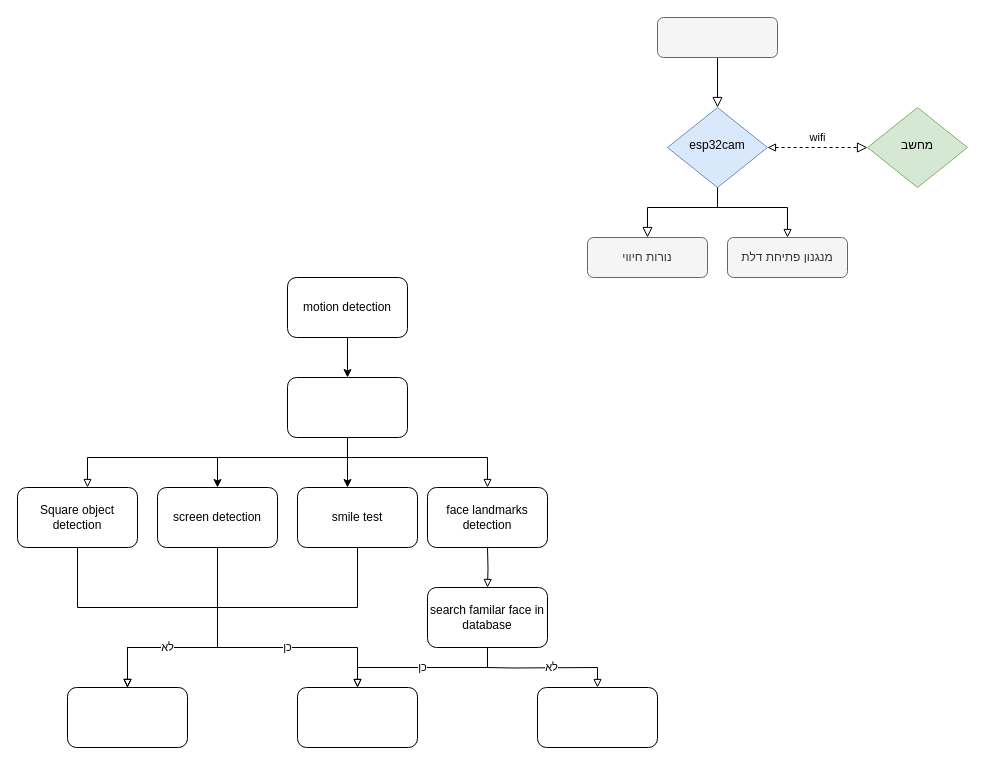
This 985x765 diagram has some shape labels left out. Here are the shapes that lost their labels. From the top down, the centre of each, then its label:
(x=717, y=37): סרט רציף שנקלט על ידי המצלמה
(x=347, y=407): face detection
(x=127, y=717): spoofing no entry
(x=357, y=717): Access Granted
(x=597, y=717): No Access
